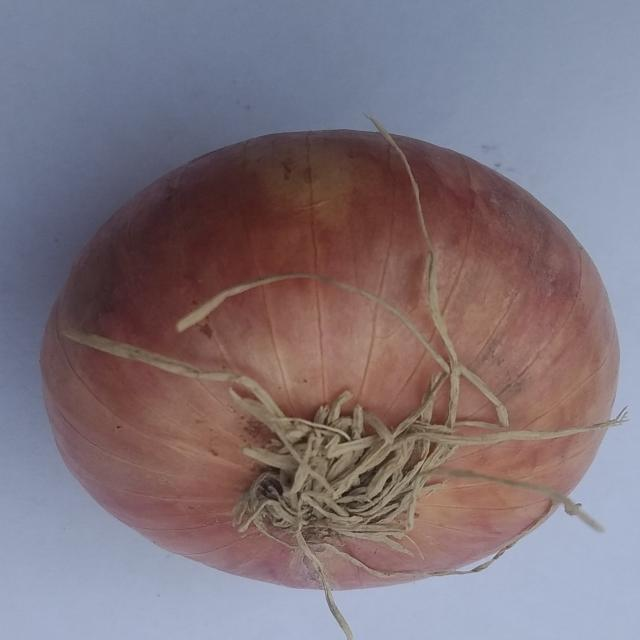onion: (39, 130, 622, 592)
